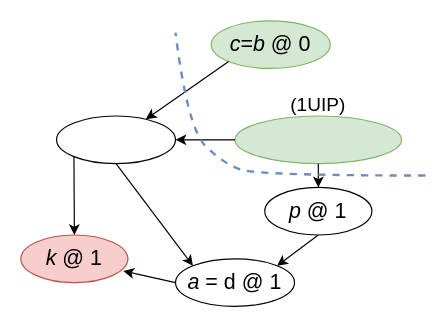
Image size: 447x327. Some labels were removed from this diagram. Each missing label, with the centre of its shape:
"a ≠ b @ 1" belongs at (x=115, y=139).
"h ( a ) ≠ h ( c ) @ 1" belongs at (x=318, y=139).
